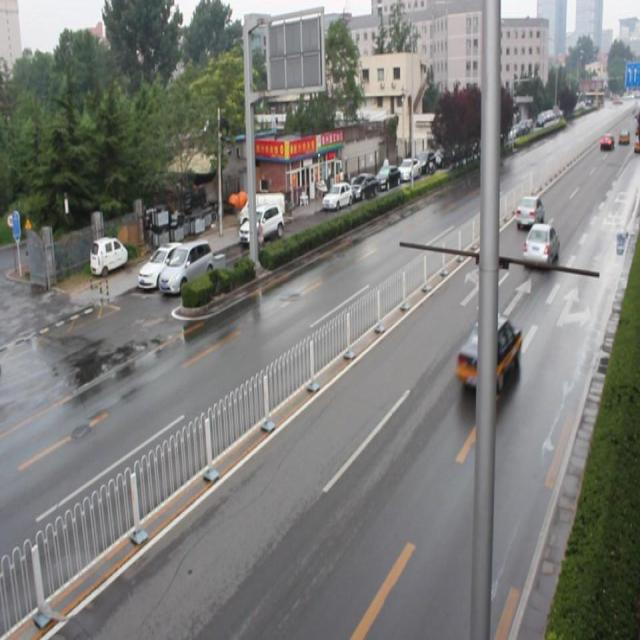car: (455, 312, 520, 388), (521, 222, 557, 267), (514, 195, 543, 228)
